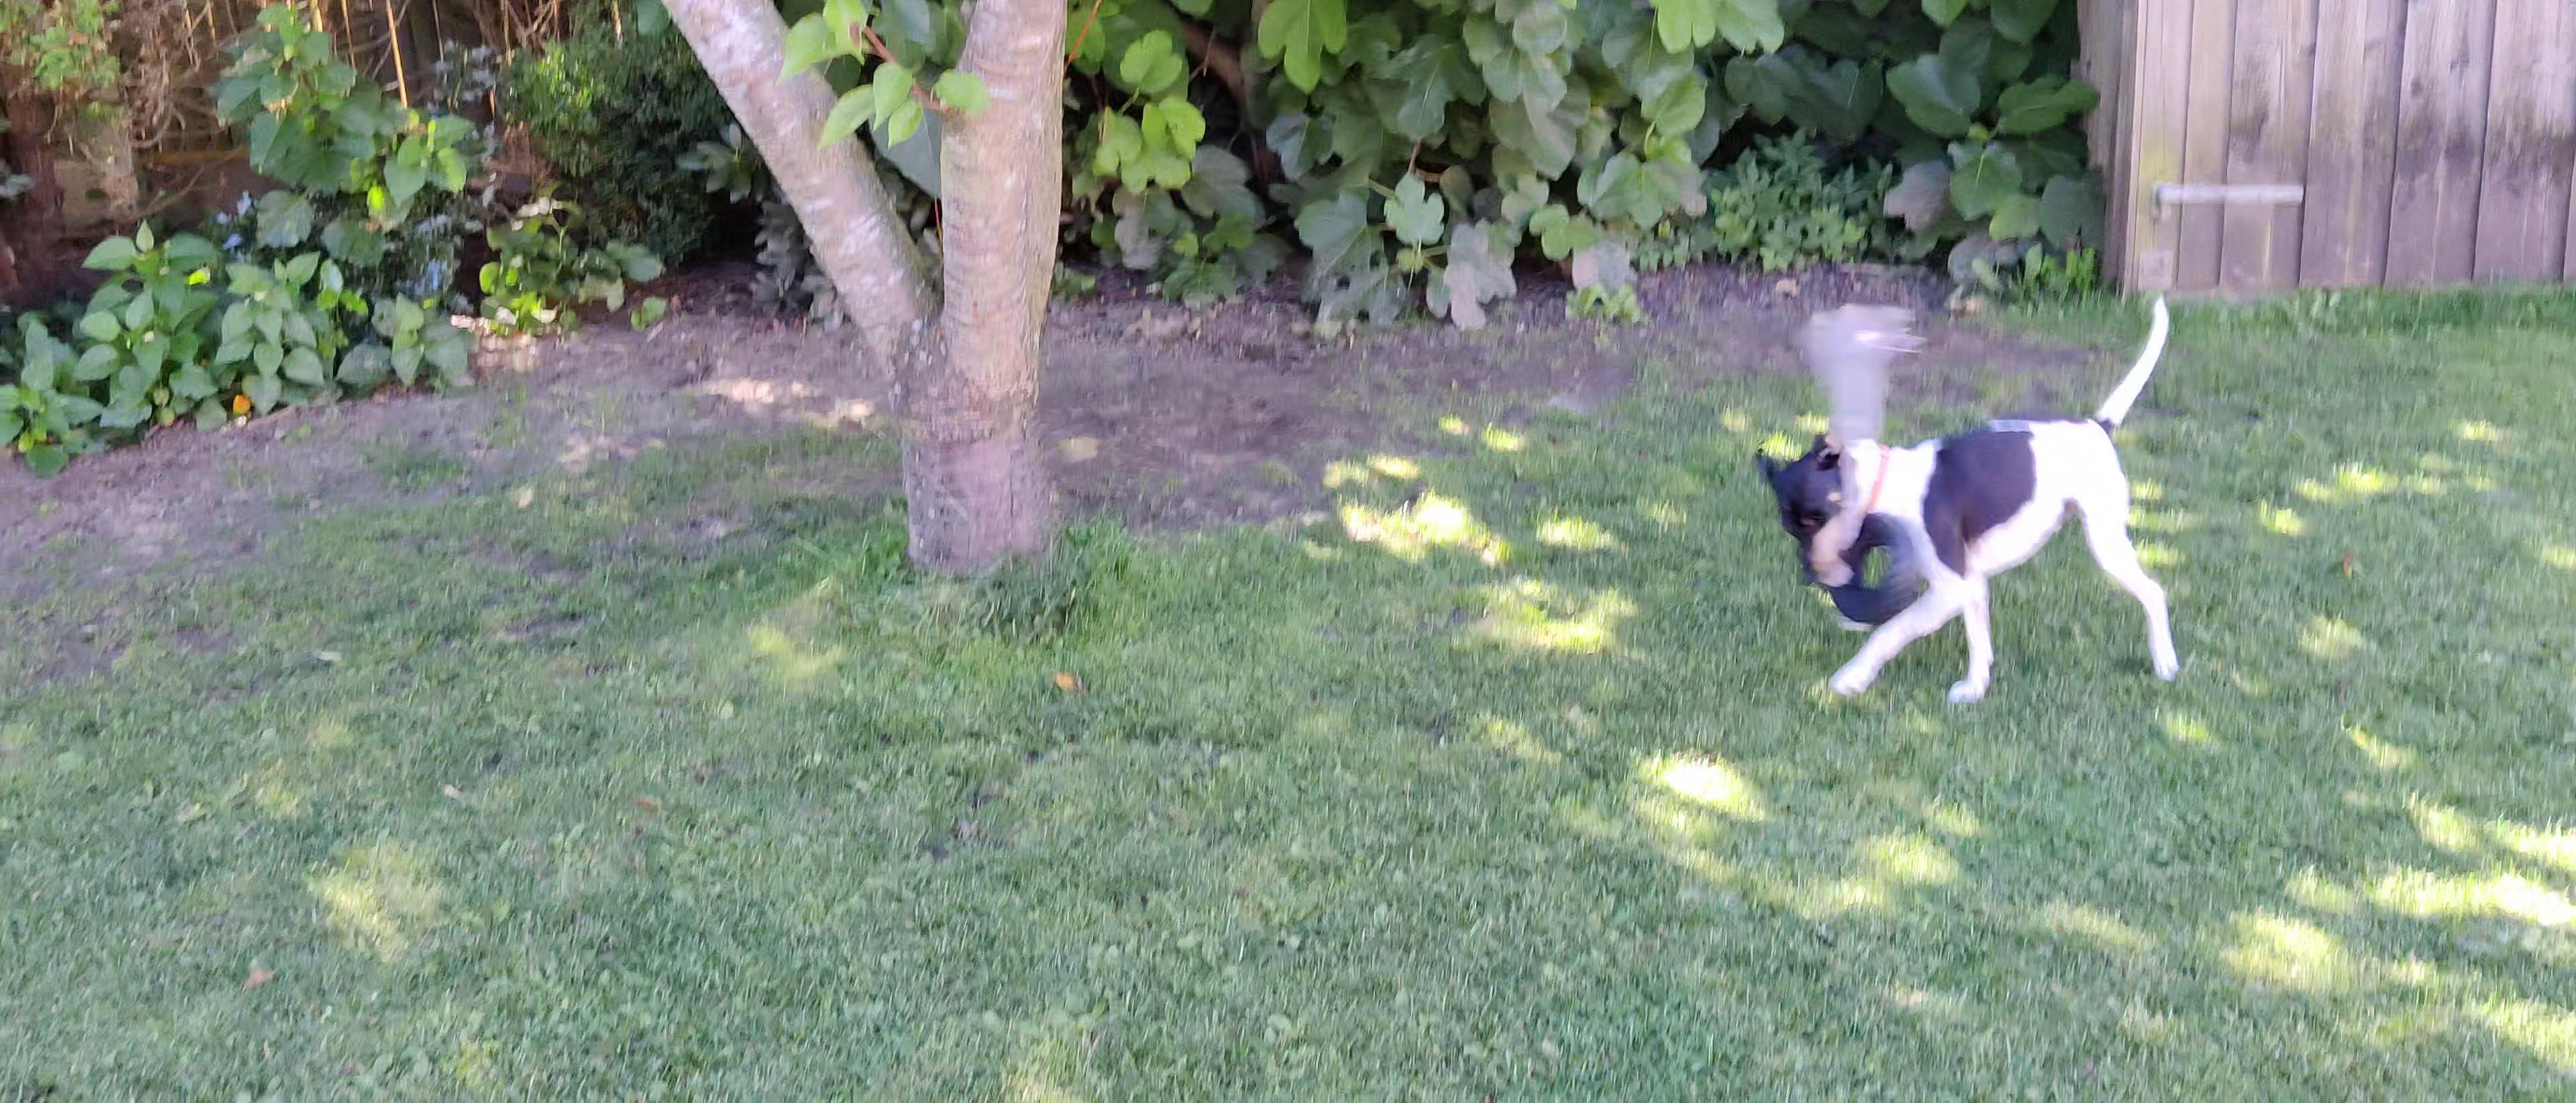Dog: (1715, 294, 2257, 715)
